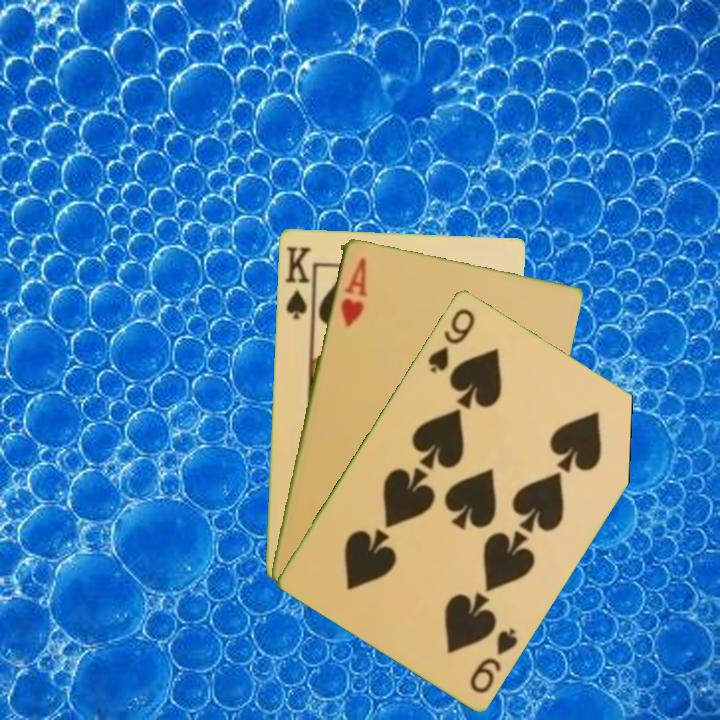9s: (465, 623, 521, 696), (423, 304, 478, 376)
Ah: (336, 253, 369, 330)
Ks: (281, 242, 315, 322)
